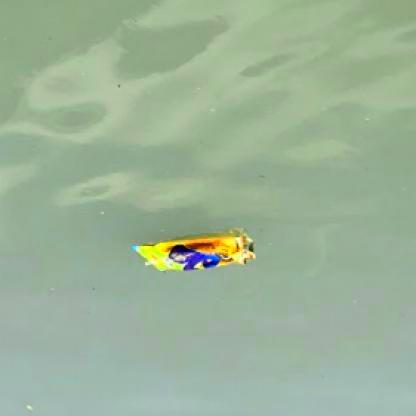Trash: (131, 231, 255, 277)
